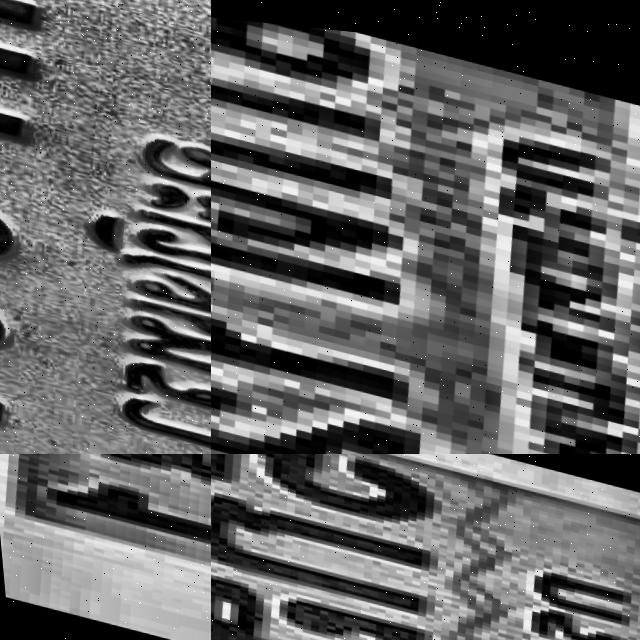license-plate: (211, 0, 640, 454), (0, 0, 211, 454), (211, 454, 640, 640), (0, 454, 211, 640)
